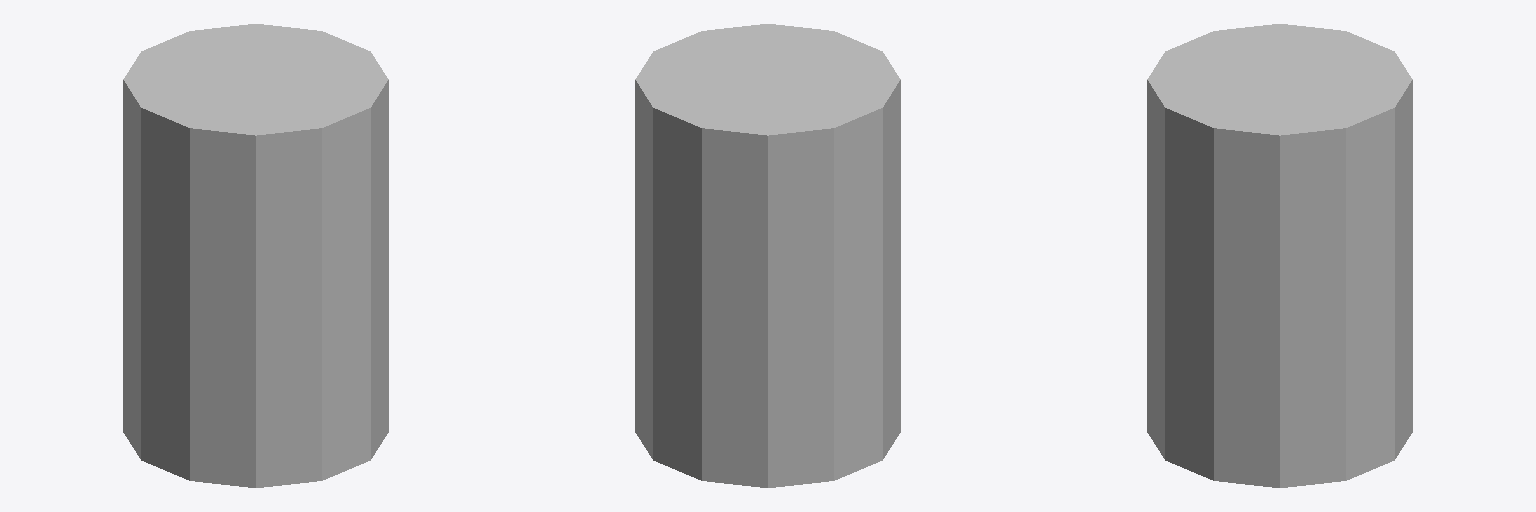
Rendered from tomato.obj.
3 views of the same model, side by side, from view 1: azimuth 30°, elevation 25°; view 2: azimuth 150°, elevation 25°; view 3: azimuth 270°, elevation 25° (orthographic).
Parts seen in each view (by area): view 1: Nontextured; view 2: Nontextured; view 3: Nontextured.
Boxes of the visible parts, x1=… form: Nontextured: x1=123, y1=24, x2=388, y2=487; Nontextured: x1=635, y1=24, x2=900, y2=487; Nontextured: x1=1147, y1=24, x2=1412, y2=487.
Size of the model in its own units: 0.0724 by 0.1063 by 0.0724.